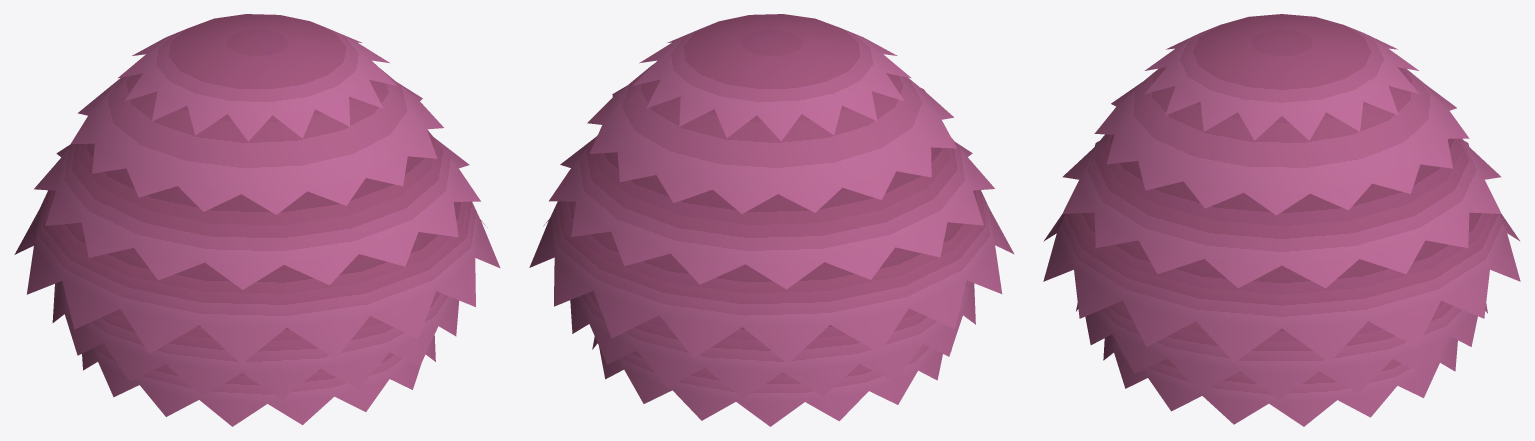
Rendered from mdl_bush01.fbx.
The picture shows the model from 3 angles, left to right: view 1: azimuth 30°, elevation 25°; view 2: azimuth 150°, elevation 25°; view 3: azimuth 270°, elevation 25°; orthographic projection.
Parts seen in each view (by area): view 1: mdl_bush02; view 2: mdl_bush02; view 3: mdl_bush02.
Part boxes in pixels (box(x1,y1,x2,y2)): mdl_bush02: box(14, 14, 500, 426); mdl_bush02: box(529, 14, 1014, 426); mdl_bush02: box(1043, 14, 1520, 426).
Bounding box in the file's own units: 53.86 × 38.89 × 53.86.
1 material, 1 textured.
